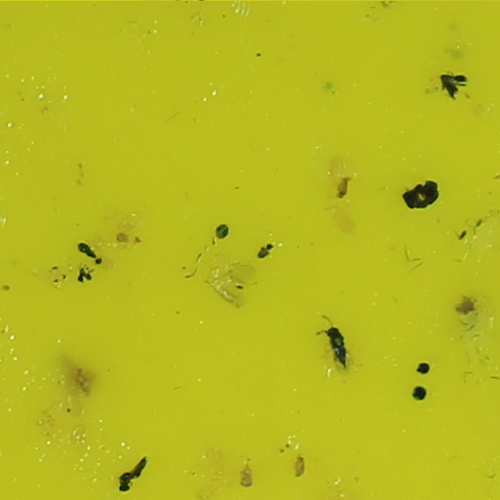Psyllaephagus: (324, 322, 347, 371)
